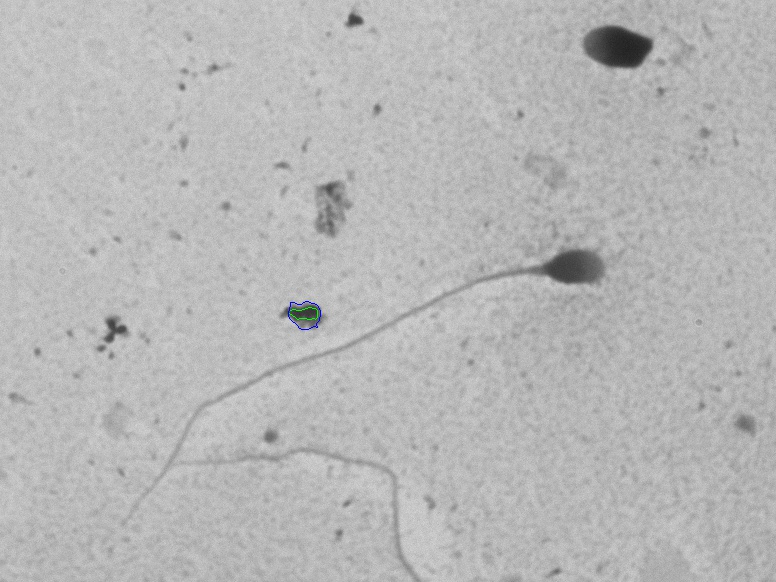Normal: (97, 223, 620, 536)
